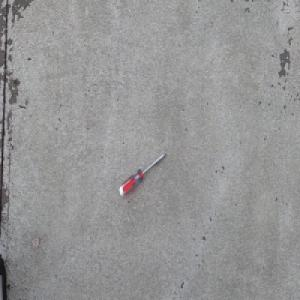Screwdriver: (118, 151, 167, 197)
